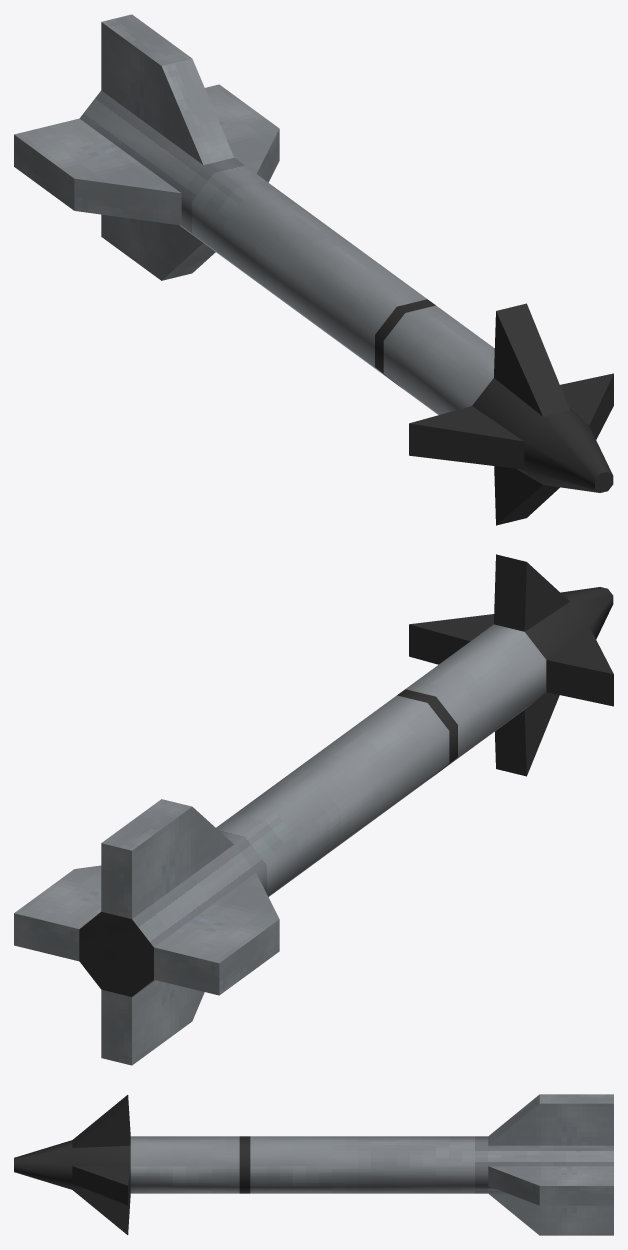
Rendered from missle1.FBX.
The picture shows the model from 3 angles, top to bottom: view 1: azimuth 30°, elevation 25°; view 2: azimuth 150°, elevation 25°; view 3: azimuth 270°, elevation 25°; orthographic projection. The views are drawn at different scales.
Visible parts, largest first — view 1: Cylinder007; view 2: Cylinder007; view 3: Cylinder007.
Boxes of the visible parts, left/top/right/bottom form: Cylinder007: left=14, top=14, right=613, bottom=525; Cylinder007: left=14, top=554, right=613, bottom=1065; Cylinder007: left=14, top=1094, right=613, bottom=1235.
Size of the model in its own units: 9.39 by 9.39 by 38.62.
1 material, 1 textured.
